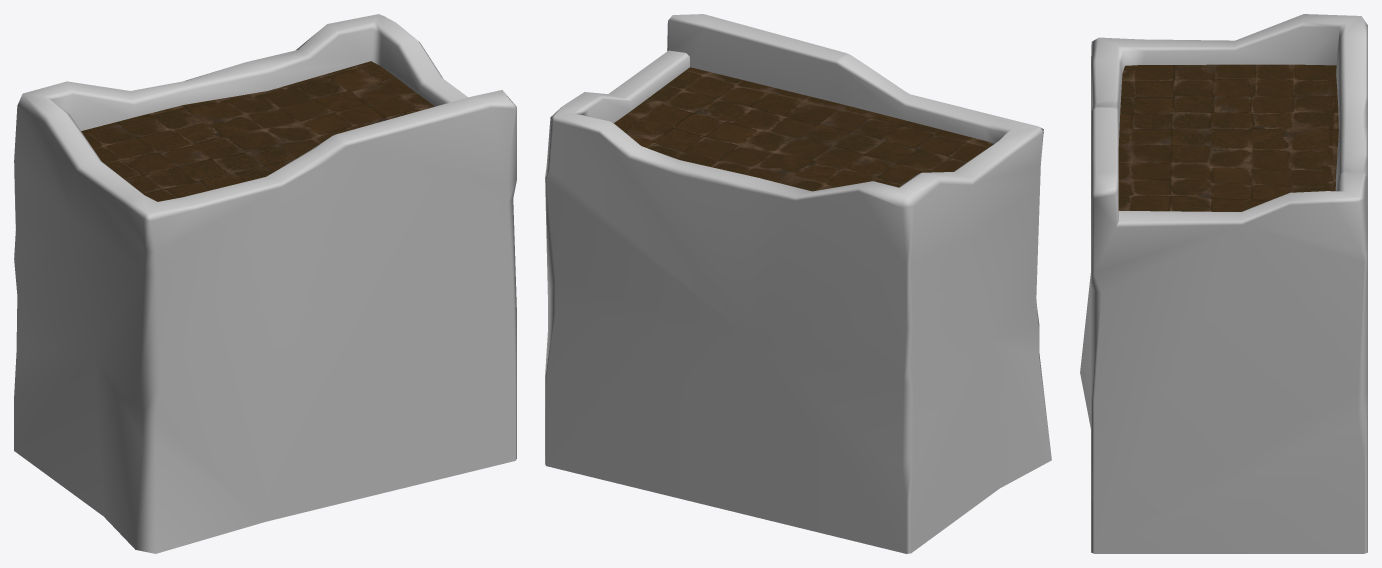
Rendered from lower_city_house_02.fbx.
3 views of the same model, side by side, from view 1: azimuth 30°, elevation 25°; view 2: azimuth 150°, elevation 25°; view 3: azimuth 270°, elevation 25° (orthographic).
Visible parts, largest first — view 1: lower_city_house_02; view 2: lower_city_house_02; view 3: lower_city_house_02.
Part boxes in pixels (x1=…): lower_city_house_02: x1=14, y1=14, x2=516, y2=553; lower_city_house_02: x1=545, y1=14, x2=1051, y2=553; lower_city_house_02: x1=1080, y1=14, x2=1367, y2=553.
Size of the model in its own units: 4.07 by 3.73 by 2.66.
